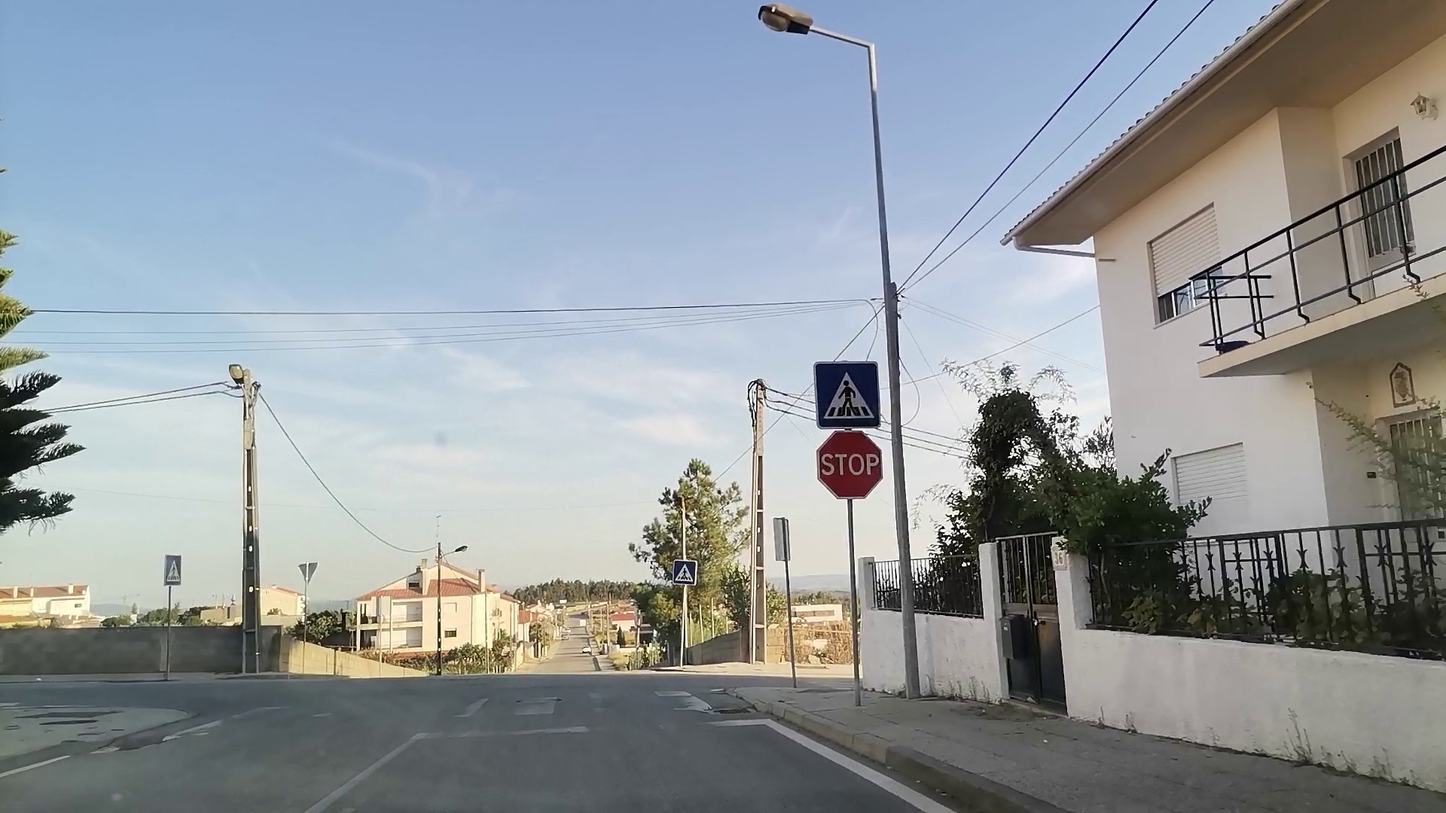Stairs: (177, 691, 723, 740)
